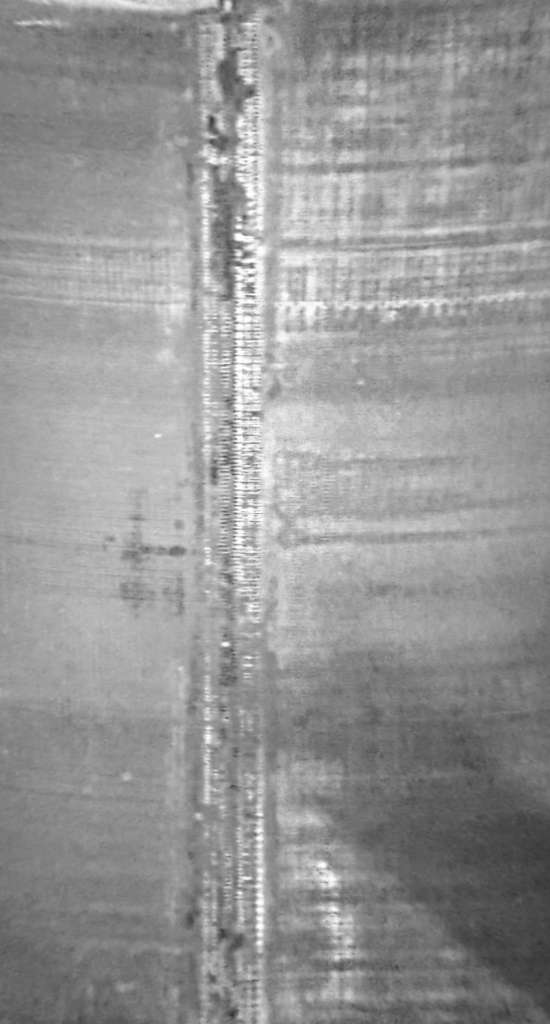splice: (193, 1, 271, 1024)
